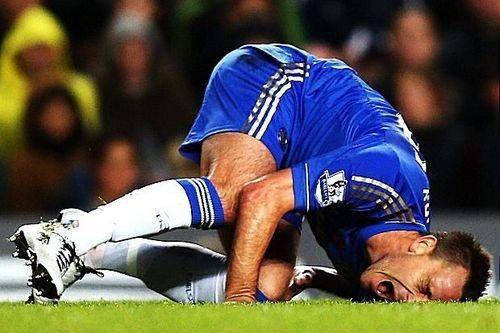falling: (12, 20, 491, 310)
